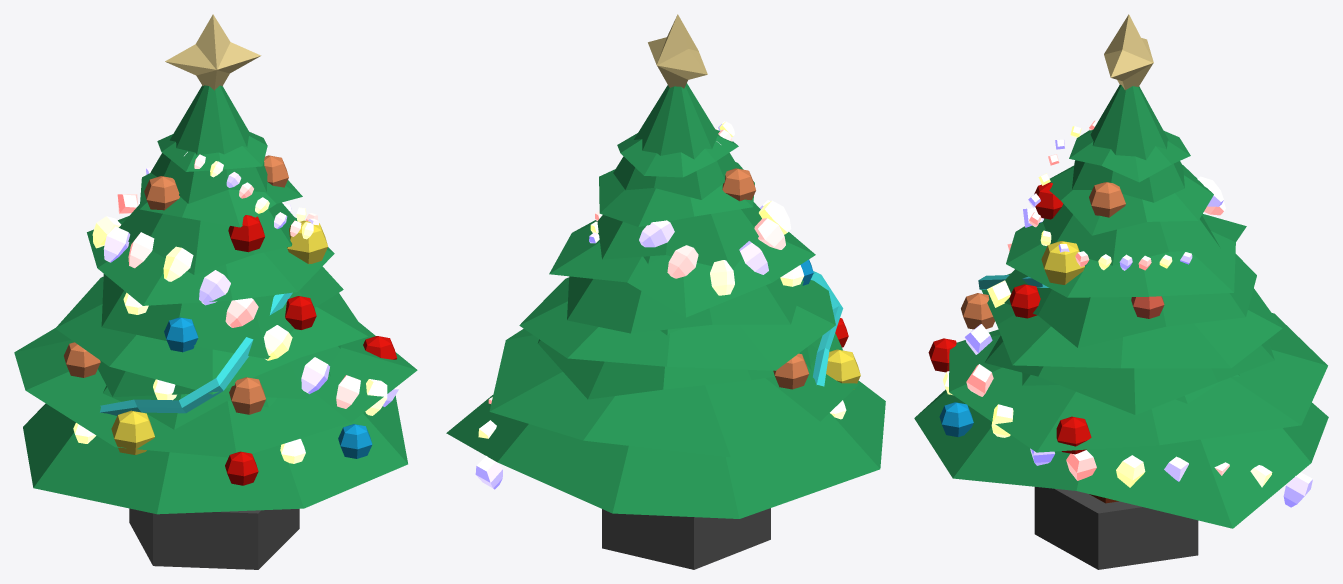
The model's file is choinka.fbx.
3 renders of one model, left to right at view 1: azimuth 30°, elevation 25°; view 2: azimuth 150°, elevation 25°; view 3: azimuth 270°, elevation 25°, orthographic.
Visible parts, largest first — view 1: Cylinder.004; view 2: Cylinder.004; view 3: Cylinder.004.
Boxes of the visible parts, x1,y1,x2,y2 form: Cylinder.004: (14,14,417,569); Cylinder.004: (446,14,885,569); Cylinder.004: (914,14,1328,569).
Size of the model in its own units: 1597 by 2138 by 1541.
